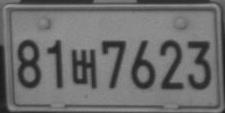1: (44, 39, 68, 89)
2: (158, 39, 184, 90)
3: (186, 39, 211, 90)
6: (130, 39, 156, 90)
7: (101, 39, 126, 88)
8: (16, 38, 42, 89)
버: (71, 47, 97, 89)
